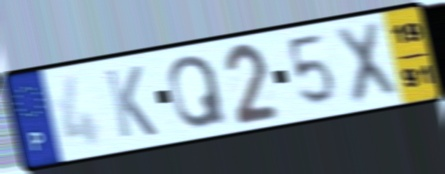2: (222, 40, 283, 129)
4: (58, 71, 104, 151)
5: (282, 31, 340, 110)
K: (102, 63, 161, 141)
Q: (166, 53, 230, 132)
X: (331, 18, 402, 108)
